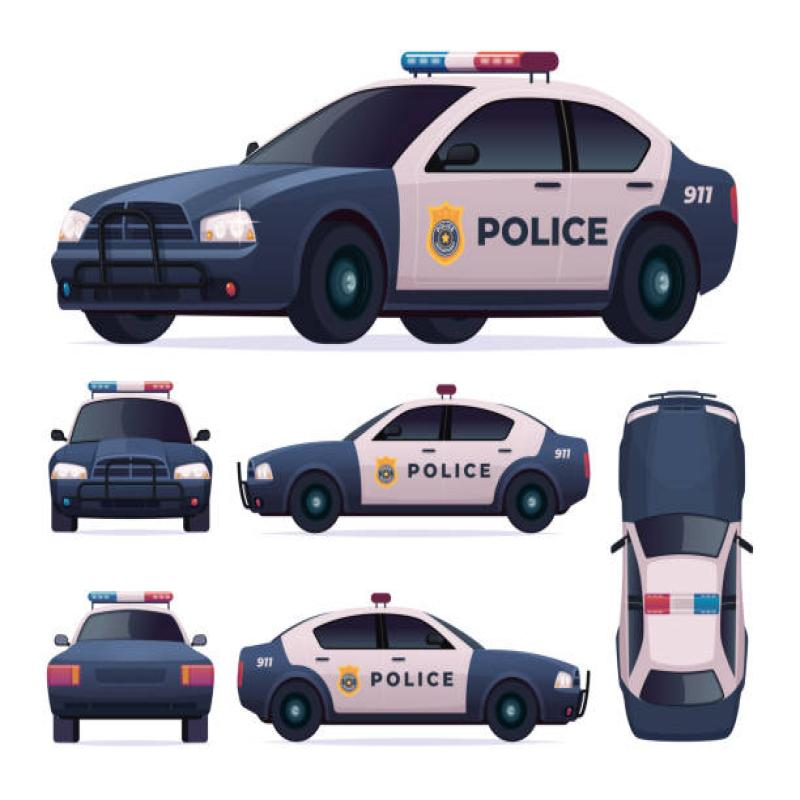AmbulanceSiren: (396, 45, 558, 92), (90, 567, 200, 616), (74, 369, 179, 395)
car: (31, 84, 800, 312), (602, 382, 768, 766), (226, 582, 595, 739)
